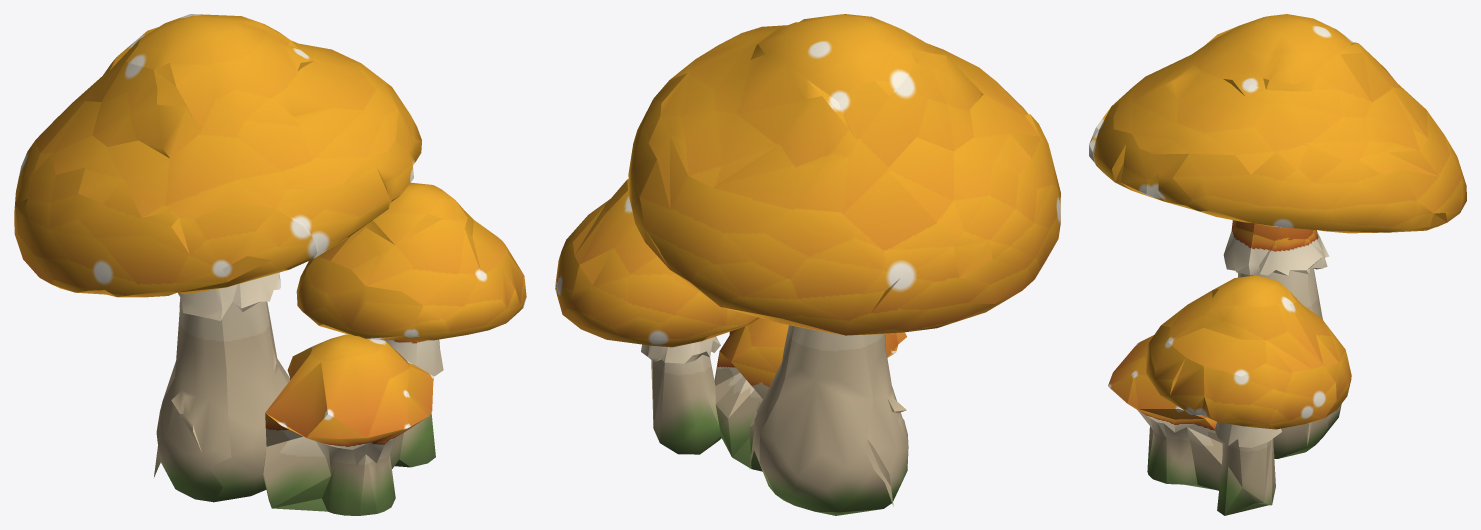
The model's file is mushroom_pickup.glb.
The picture shows the model from 3 angles, left to right: view 1: azimuth 30°, elevation 25°; view 2: azimuth 150°, elevation 25°; view 3: azimuth 270°, elevation 25°; orthographic projection. The views are drawn at different scales.
Visible parts, largest first — view 1: geometry_0; view 2: geometry_0; view 3: geometry_0.
Boxes of the visible parts, box(x1,y1,x2,y2) form: geometry_0: box(14, 14, 526, 515); geometry_0: box(555, 14, 1060, 515); geometry_0: box(1089, 14, 1466, 515).
Size of the model in its own units: 1.86 by 1.77 by 1.48.
1 material, 1 textured.
